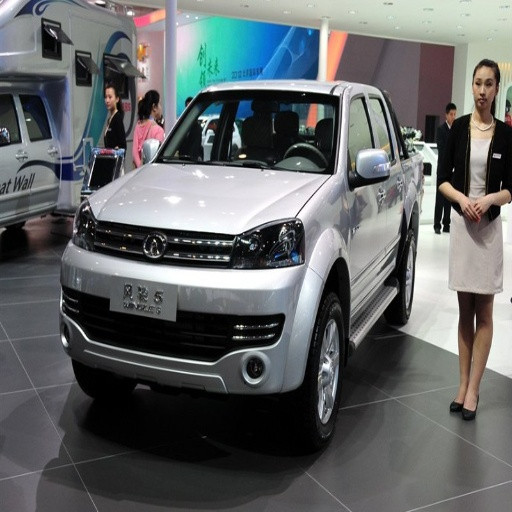front_bumper: (61, 222, 324, 394)
front_glass: (155, 90, 339, 173)
front_left_door: (345, 91, 386, 313)
